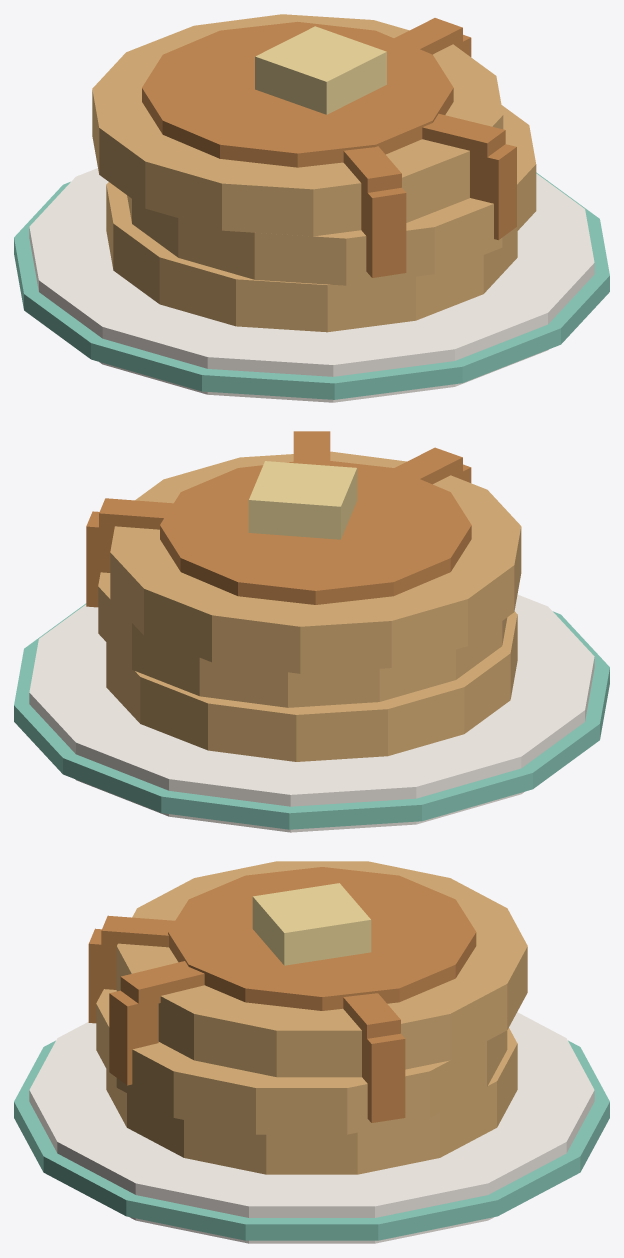
The model's file is CatCafe_Menu_PancakeStack.glb.
The picture shows the model from 3 angles, top to bottom: view 1: azimuth 30°, elevation 25°; view 2: azimuth 150°, elevation 25°; view 3: azimuth 270°, elevation 25°; orthographic projection.
Visible parts, largest first — view 1: CatCafe_Menu_PancakeStack, CatCafe_Menu_PancakeStack_Plate; view 2: CatCafe_Menu_PancakeStack, CatCafe_Menu_PancakeStack_Plate; view 3: CatCafe_Menu_PancakeStack, CatCafe_Menu_PancakeStack_Plate.
Part boxes in pixels (x1,y1,x2,y2): CatCafe_Menu_PancakeStack: (92, 14, 536, 332); CatCafe_Menu_PancakeStack_Plate: (14, 168, 609, 402); CatCafe_Menu_PancakeStack: (86, 431, 521, 761); CatCafe_Menu_PancakeStack_Plate: (14, 594, 609, 832); CatCafe_Menu_PancakeStack: (88, 861, 527, 1174); CatCafe_Menu_PancakeStack_Plate: (14, 1012, 609, 1243).
Bounding box in the file's own units: 1.13 × 0.52 × 1.16.
Materials: 1 (1 with a texture image).
